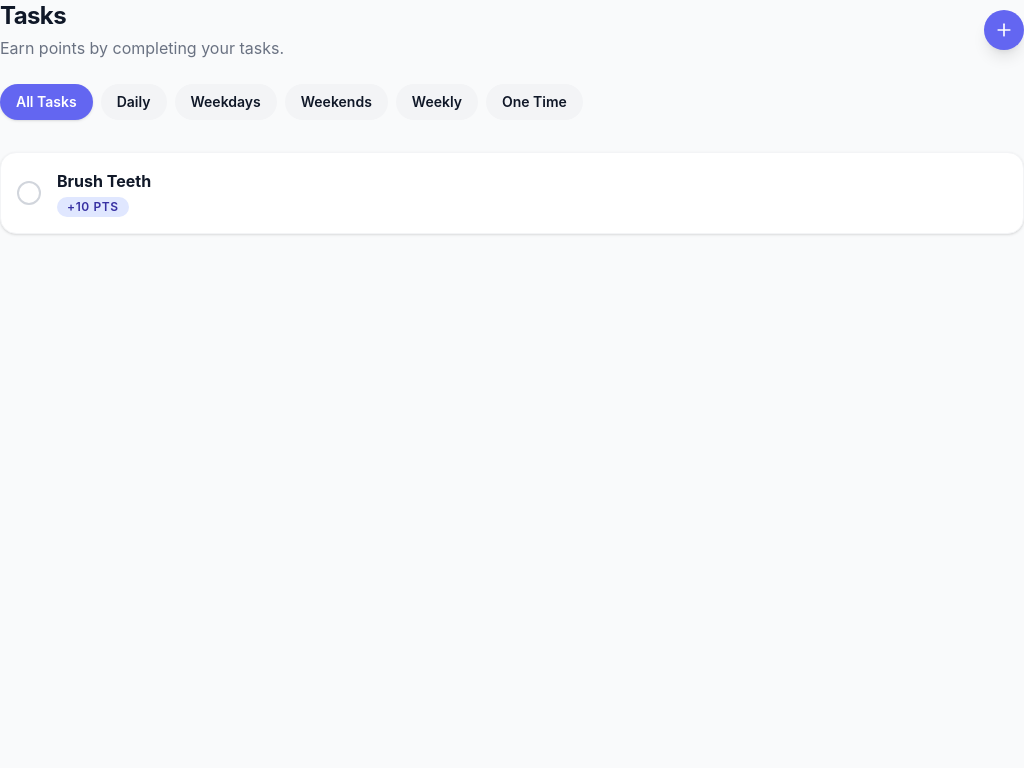
Test case: Tasks page — role-based management controls › owner sees Add Task, Edit and Archive controls
Expected: the button named "Add Task" is shown, [984,10,1023,50]
Click the heading "Brush Teeth".
click(104, 181)  # box [57,171,151,191]
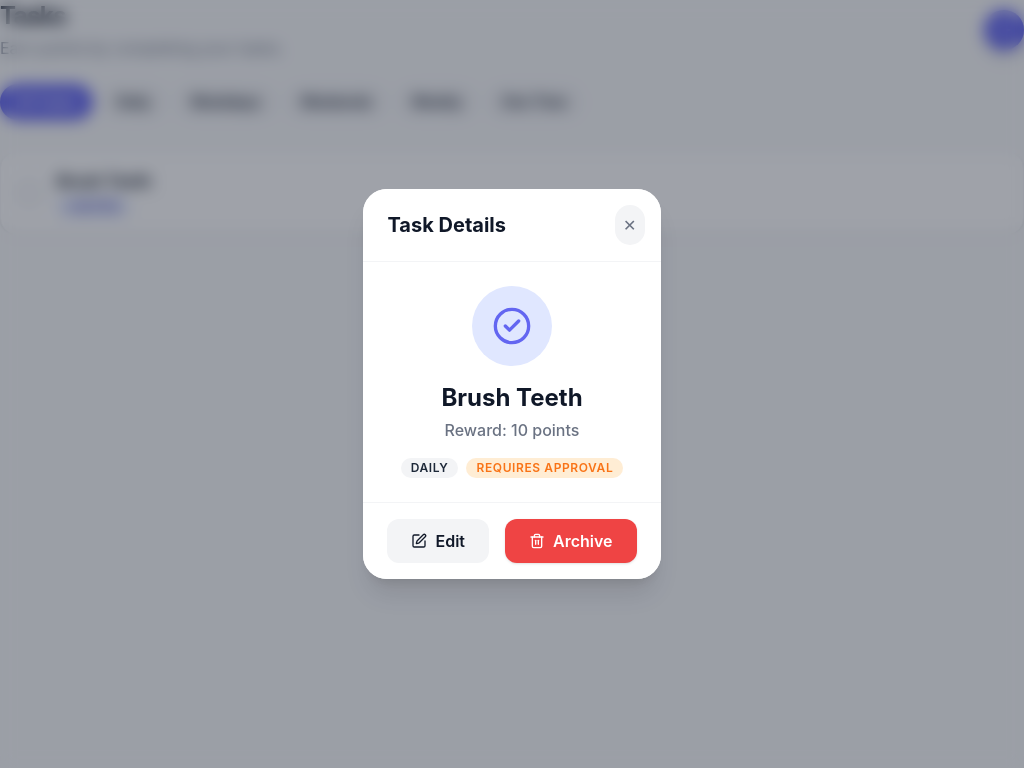
Expected: the button "Edit" is shown, [388,519,489,563]
Expected: the button "Archive" is shown, [505,519,636,563]
